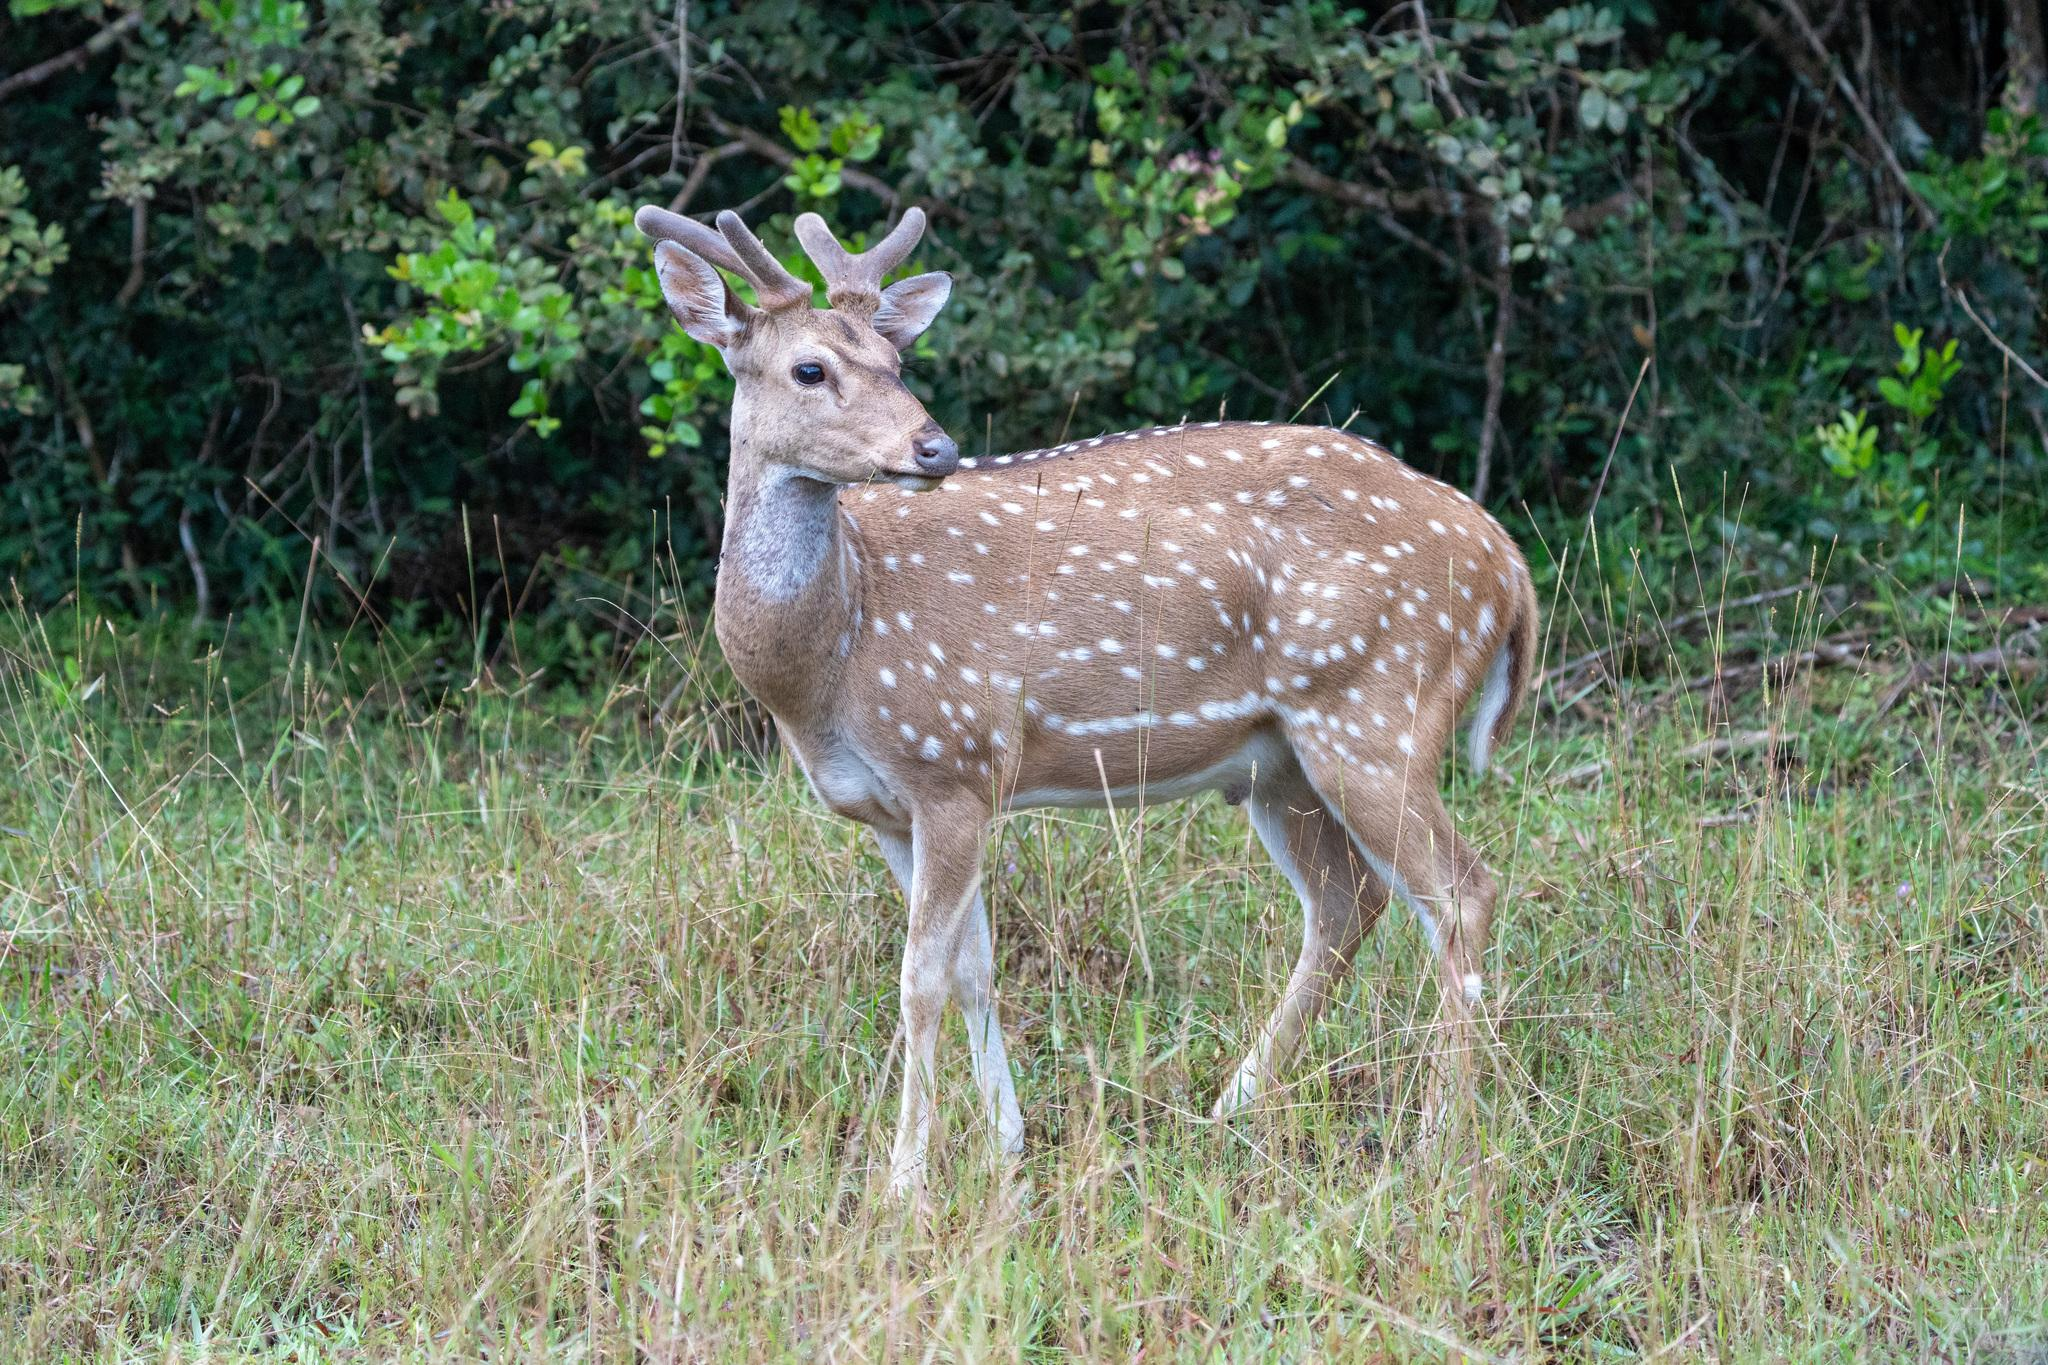Deer: (636, 206, 1536, 1184)
